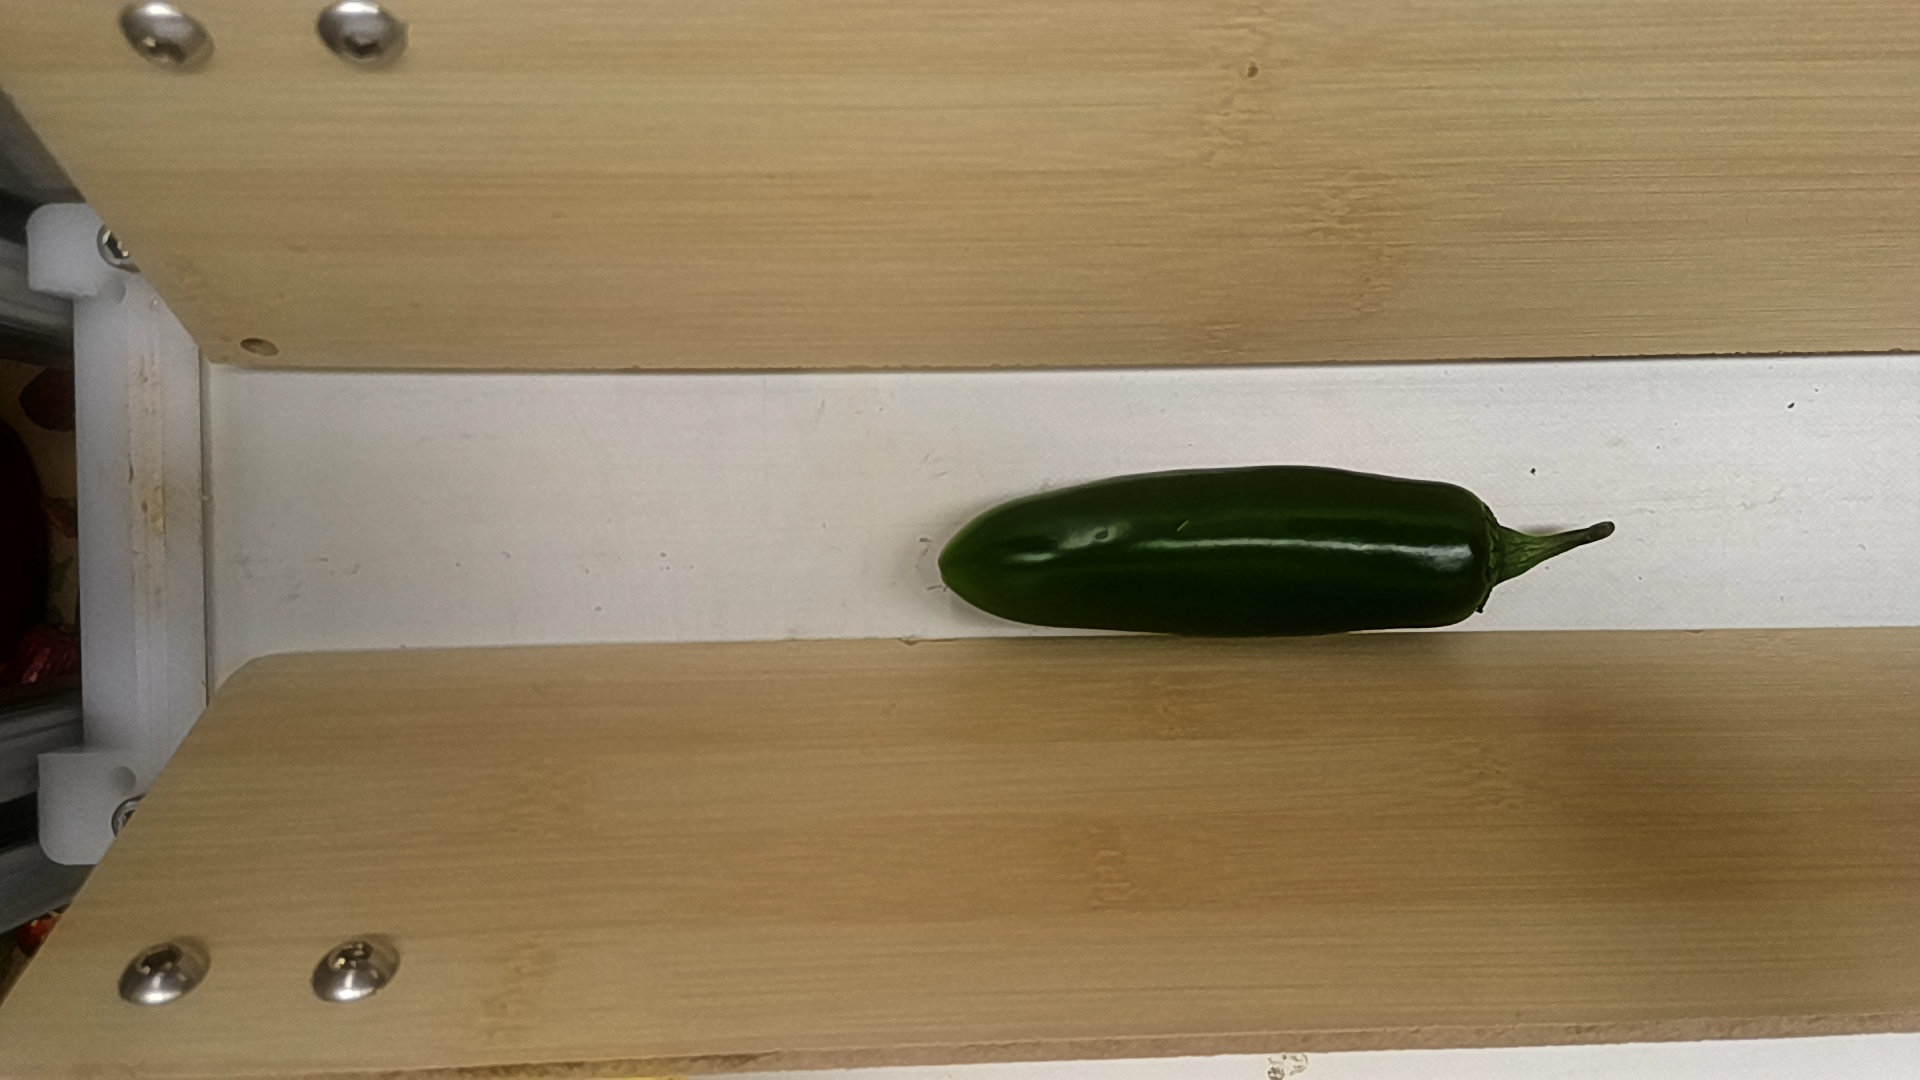Cut Point: (1443, 473, 1519, 630)
